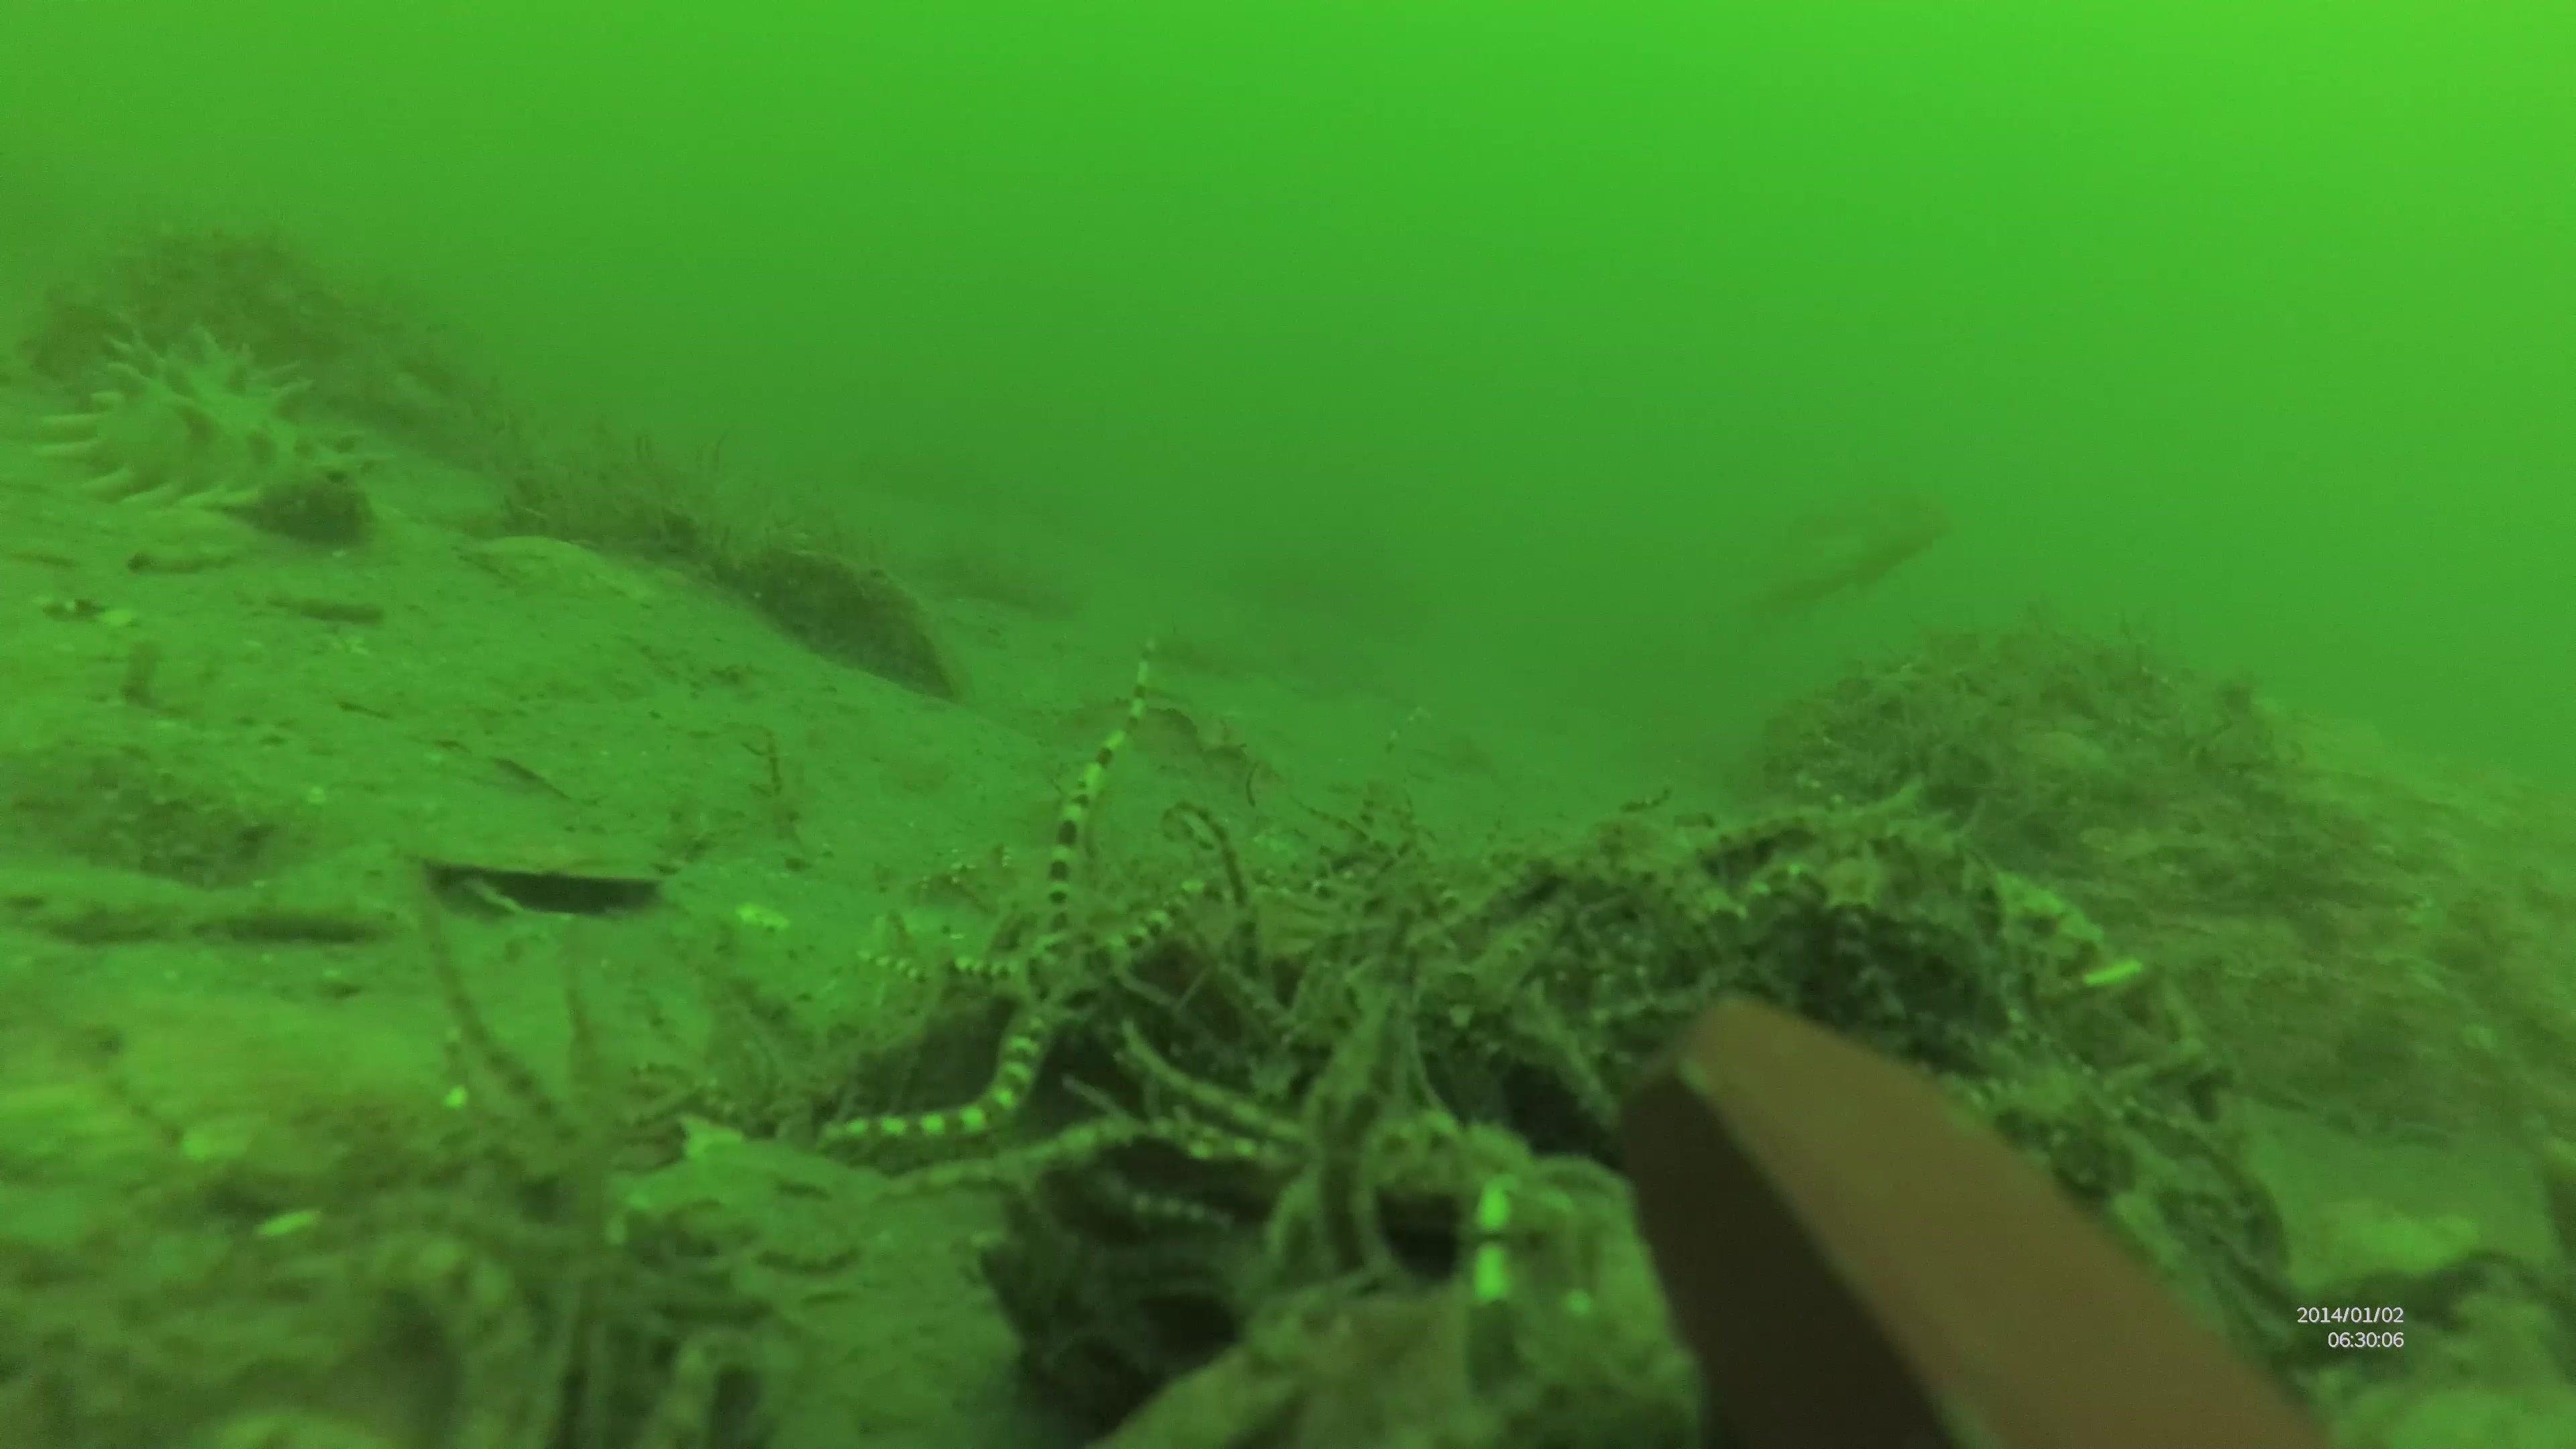holothurian: (35, 324, 372, 552)
starfish: (819, 635, 1284, 1164)
